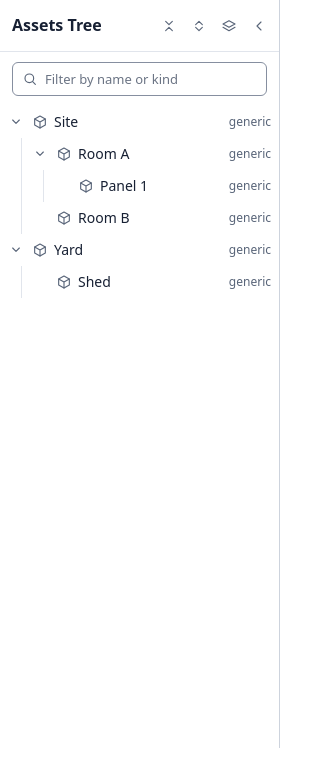
AssetTree fold state › Collapse all folds every branch: no nested list is shown and each twisty says aria-expanded=false
Click the button named "Collapse all": {"x": 169, "y": 26} [155,12,183,40]
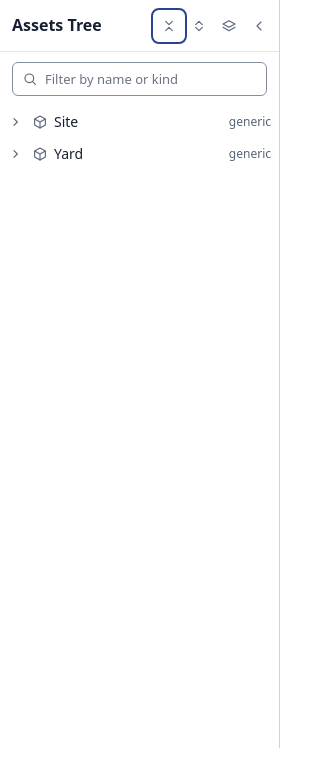
Expected: the link "Room A" is gone
Expected: the link "Room B" is gone
Expected: the link "Panel 1" is gone
